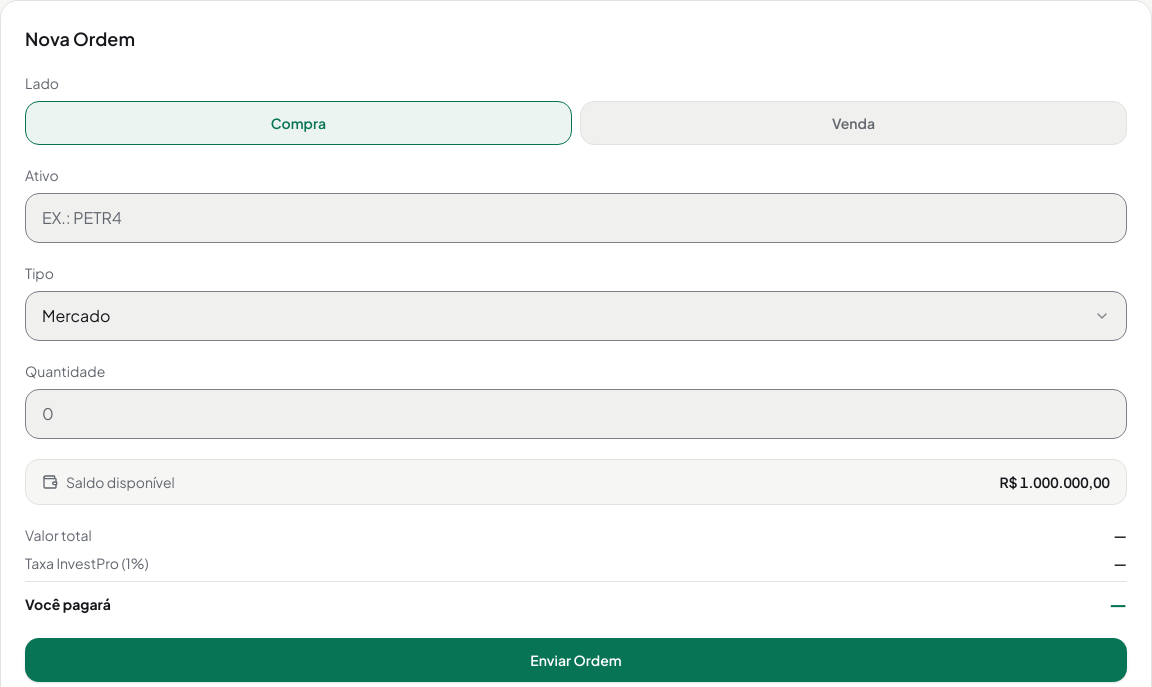
Test: NewOrderForm › enviar vazio marca Ativo e Quantidade na tela, sem enviar a ordem
Click the button "Enviar Ordem" at point(576, 660), box [25,638,1127,682]
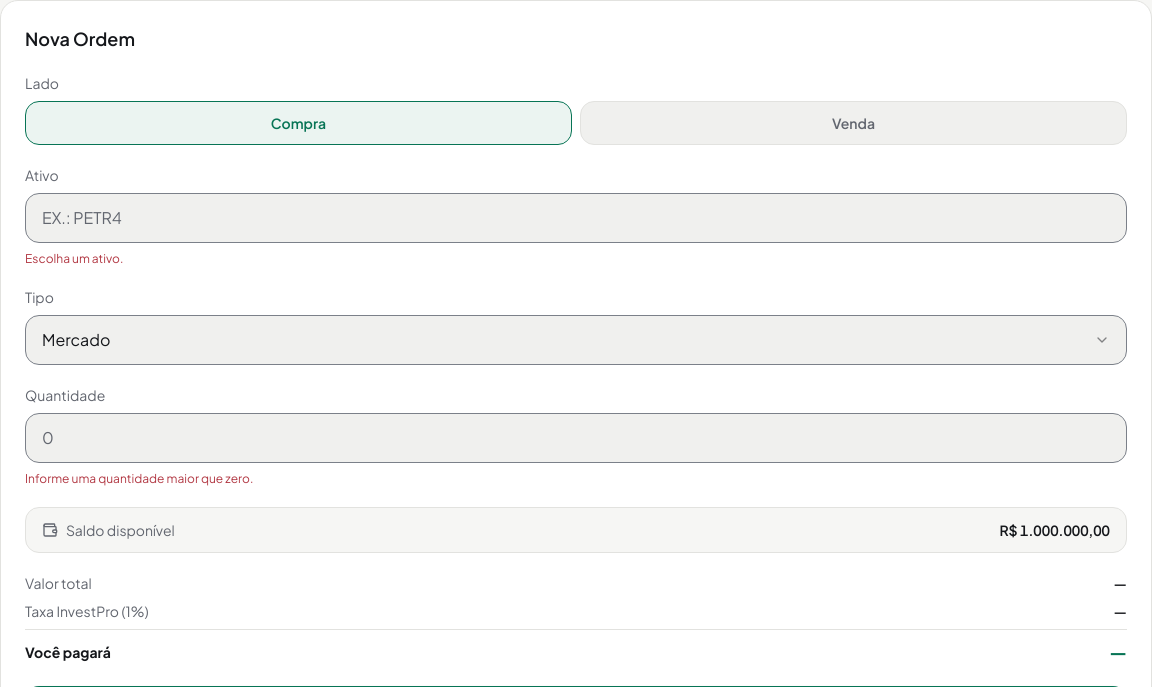
Result: the text "Escolha um ativo." is shown at [25,251,123,266]
Result: the text "Informe uma quantidade maior que zero." is shown at [25,471,253,486]
